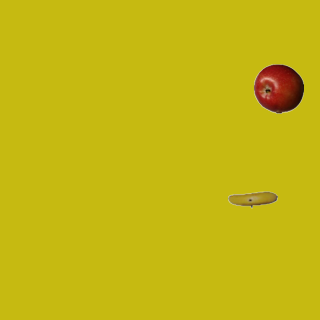Apple Braeburn: (253, 63, 303, 113)
Banana: (227, 174, 277, 224)
